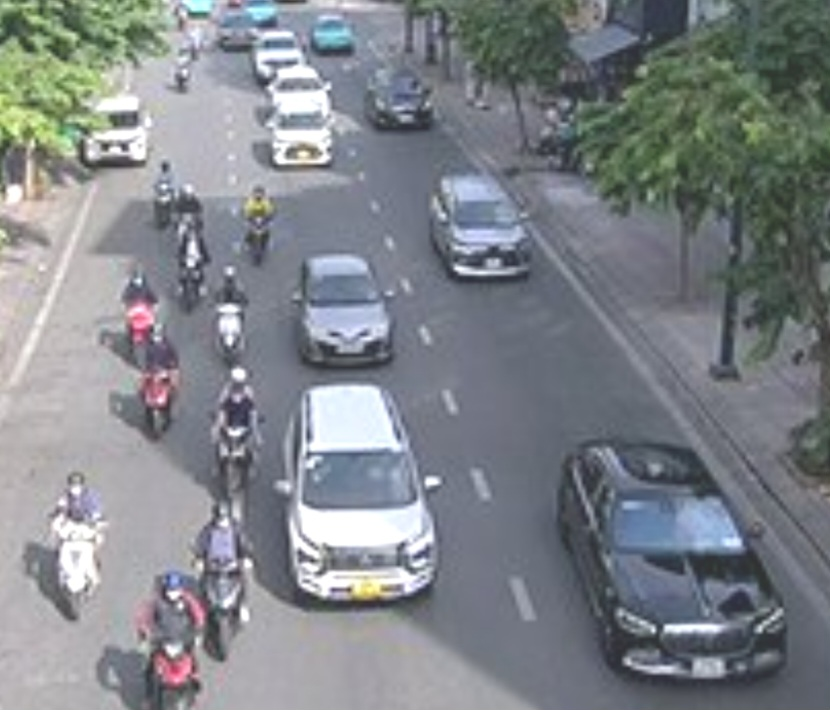car: (558, 444, 791, 677), (284, 391, 440, 602), (291, 254, 395, 368), (426, 174, 536, 281), (82, 100, 151, 165), (364, 69, 436, 131), (269, 103, 332, 167), (267, 68, 331, 102), (251, 32, 304, 67), (312, 13, 355, 54)
